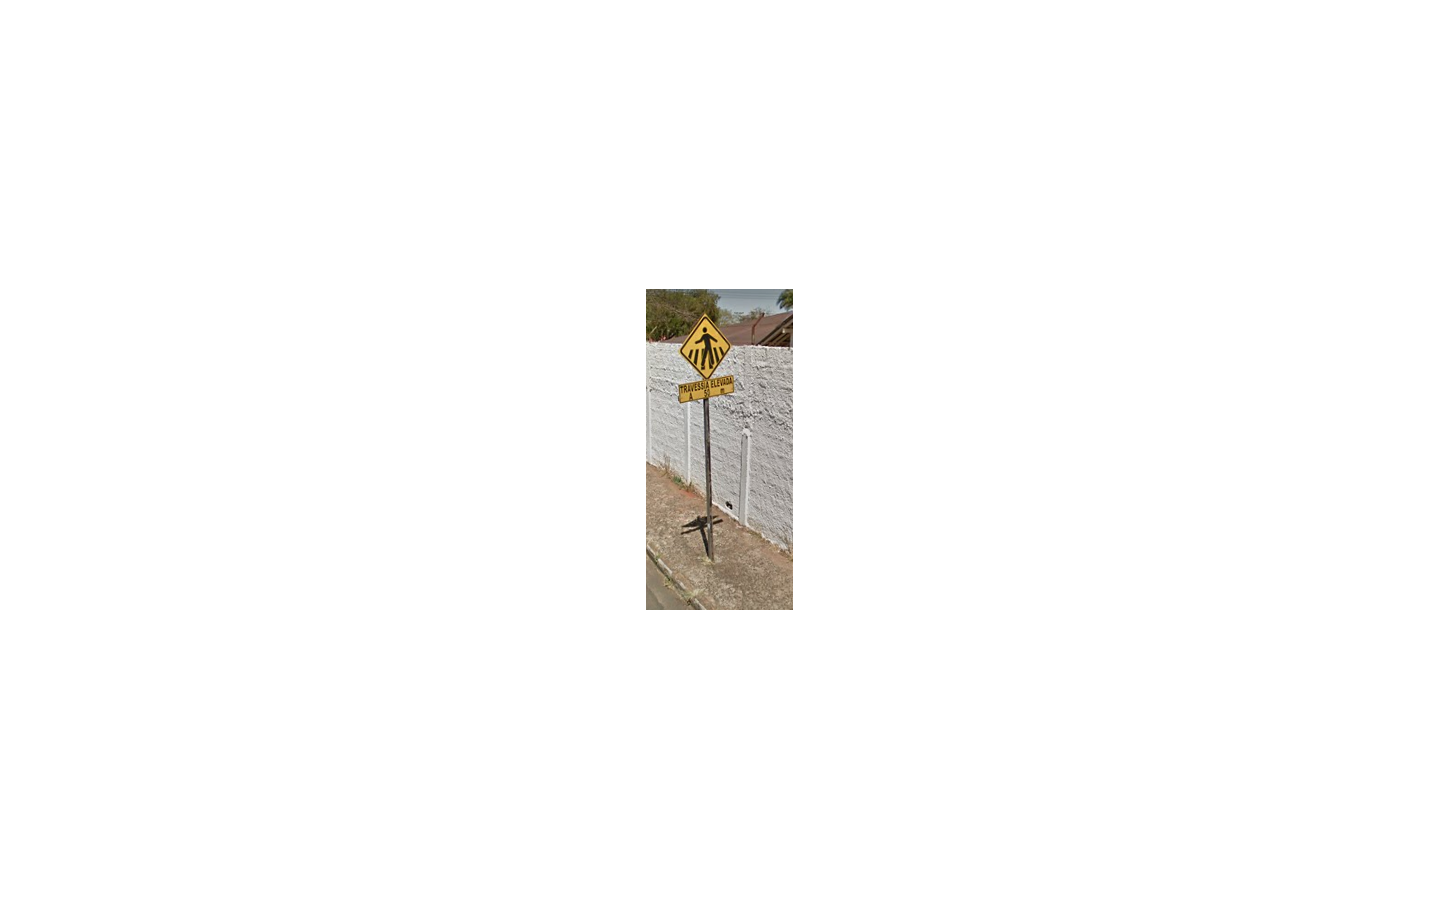t50m: (679, 314, 734, 403)
